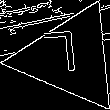L_S: (51, 31, 89, 84)
